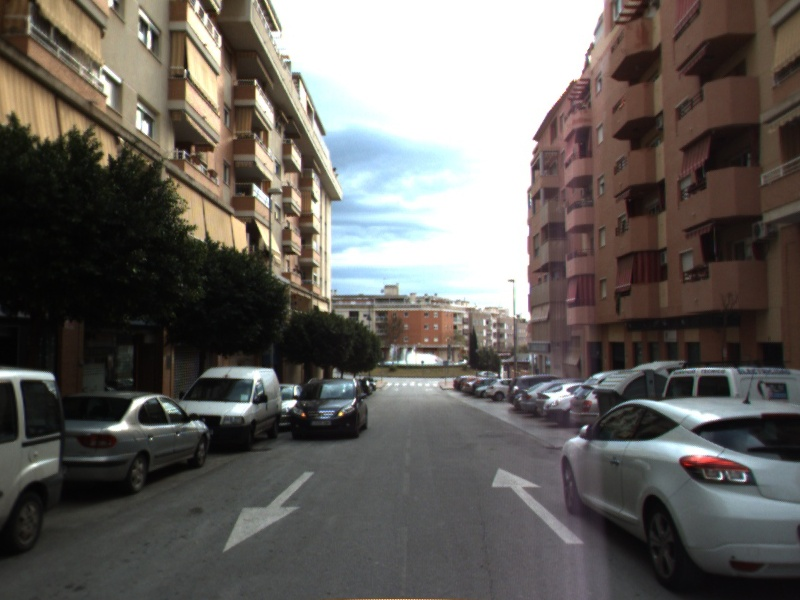STRAIGHT: (489, 466, 586, 546)
